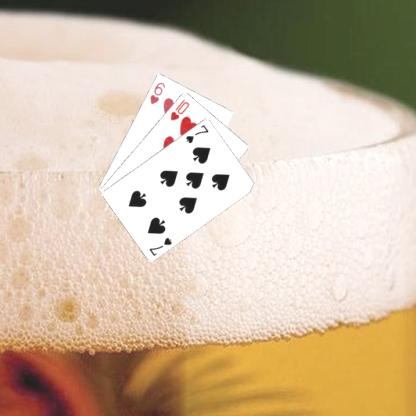10H: (168, 96, 190, 122)
6H: (147, 80, 166, 105)
7S: (183, 121, 210, 144), (147, 234, 173, 257)
